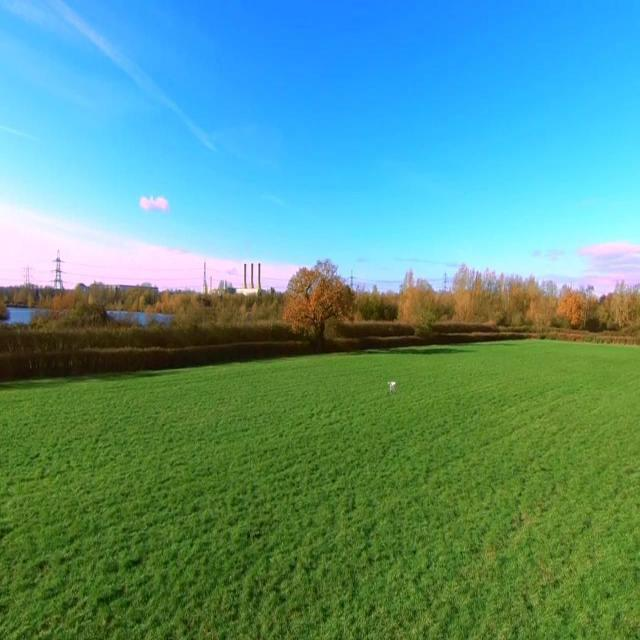UAV: (388, 381, 396, 392)
